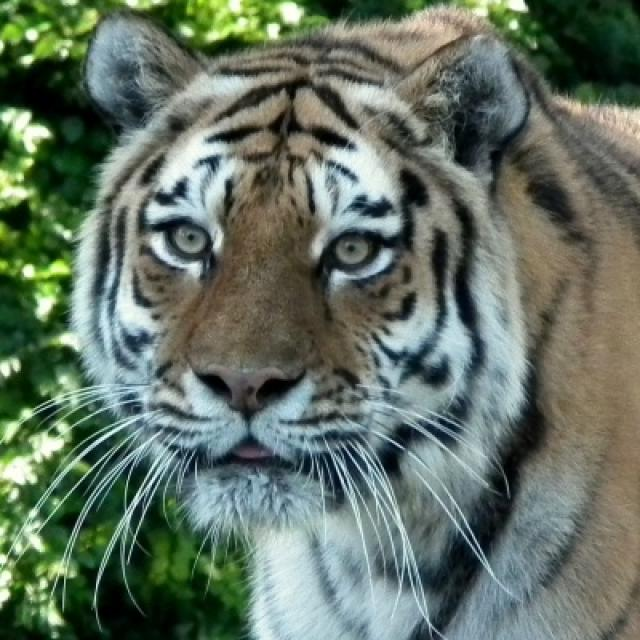Tiger: (74, 3, 638, 638)
